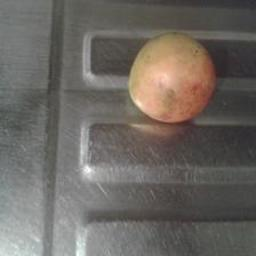Mango Semifresh: (118, 9, 219, 128)
